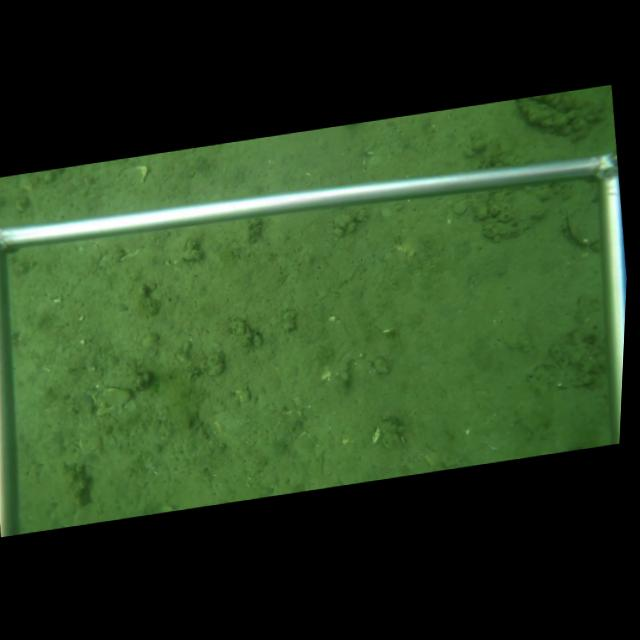Oyster-Open: (557, 193, 600, 251)
